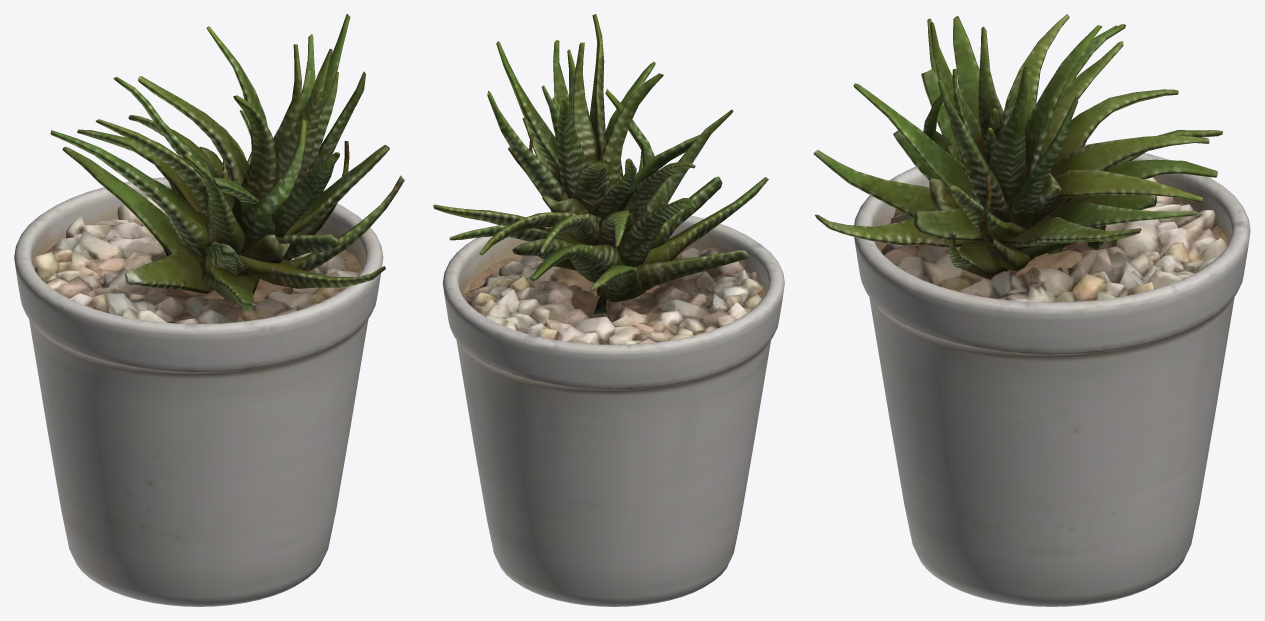
File: potted_plant_04.glb
The picture shows the model from 3 angles, left to right: view 1: azimuth 30°, elevation 25°; view 2: azimuth 150°, elevation 25°; view 3: azimuth 270°, elevation 25°; orthographic projection. The views are drawn at different scales.
Parts seen in each view (by area): view 1: potted_plant_04_ground; view 2: potted_plant_04_ground; view 3: potted_plant_04_ground.
Boxes of the visible parts, x1,y1,x2,y2 form: potted_plant_04_ground: [14, 14, 404, 606]; potted_plant_04_ground: [433, 14, 784, 606]; potted_plant_04_ground: [813, 14, 1250, 606].
Bounding box in the file's own units: 0.1679 × 0.2675 × 0.1847.
1 material, 1 textured.
